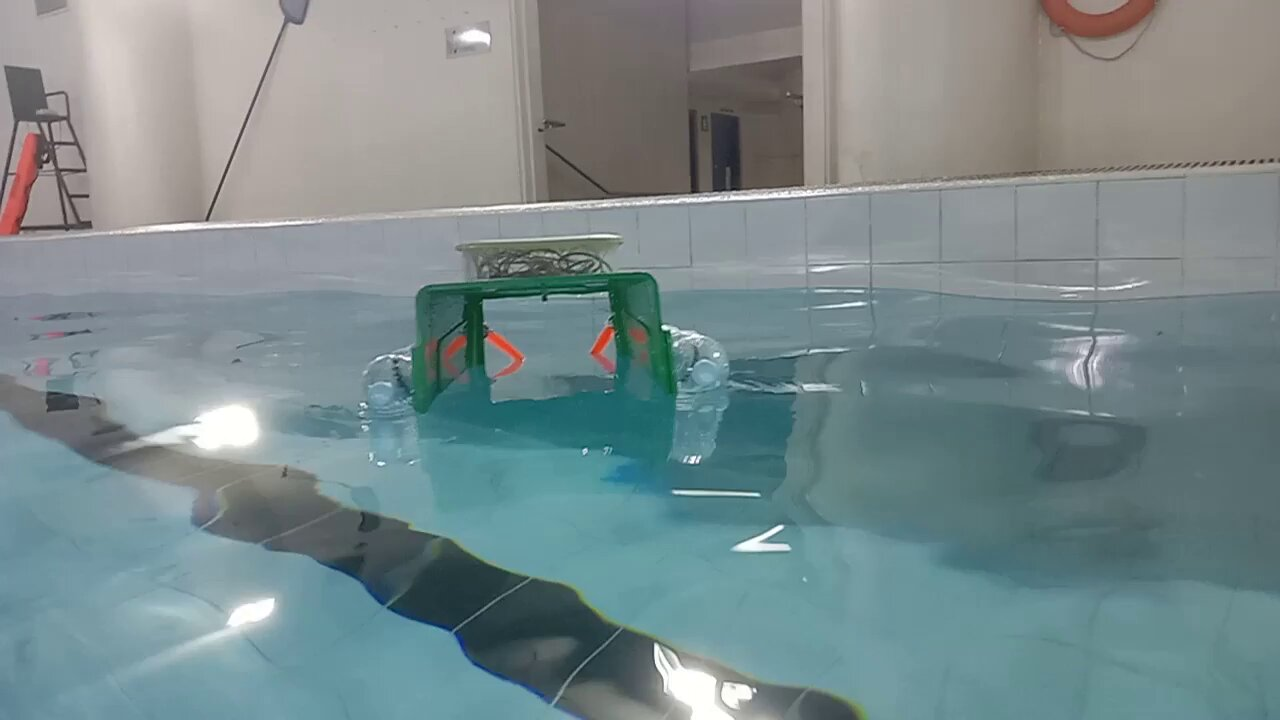drone: (359, 228, 732, 417)
